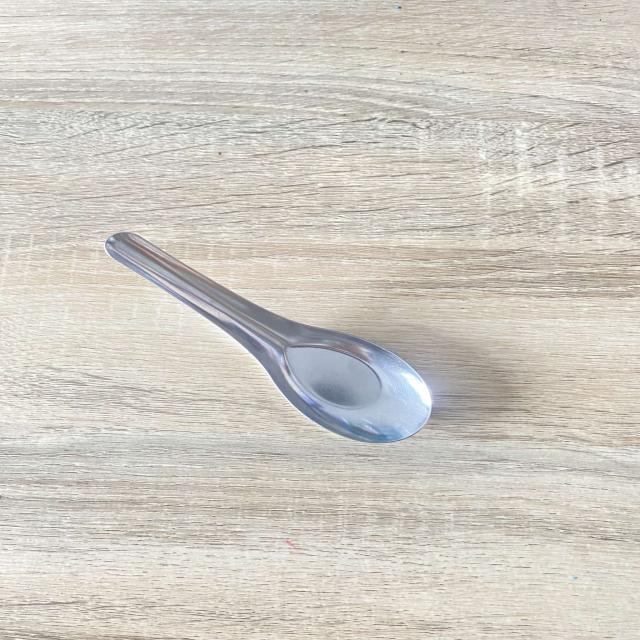spoon: (99, 222, 468, 455)
